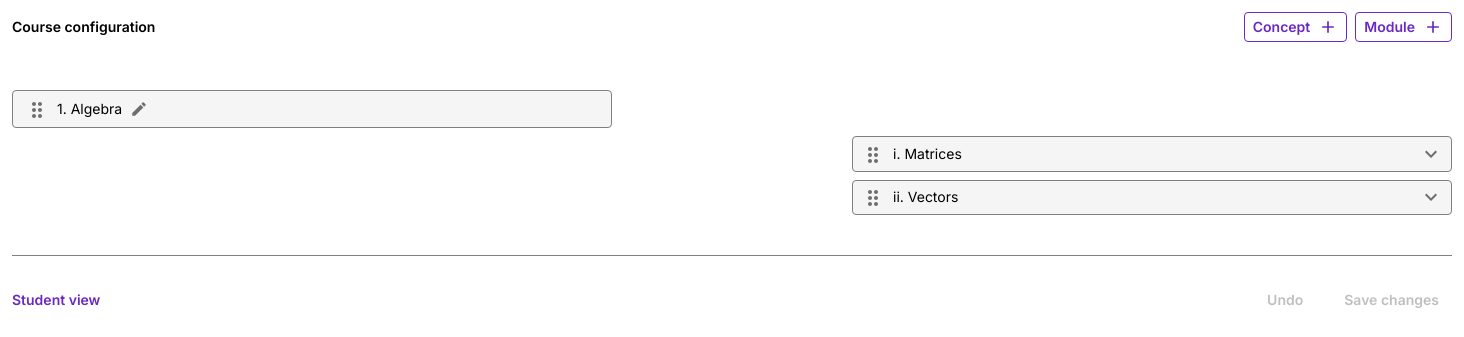
Test: ConfigurationTab › reverts a staged concept rename on Undo (name + button state)
Click the button named "Rename concept".
click(139, 109)  # box [130,100,148,118]
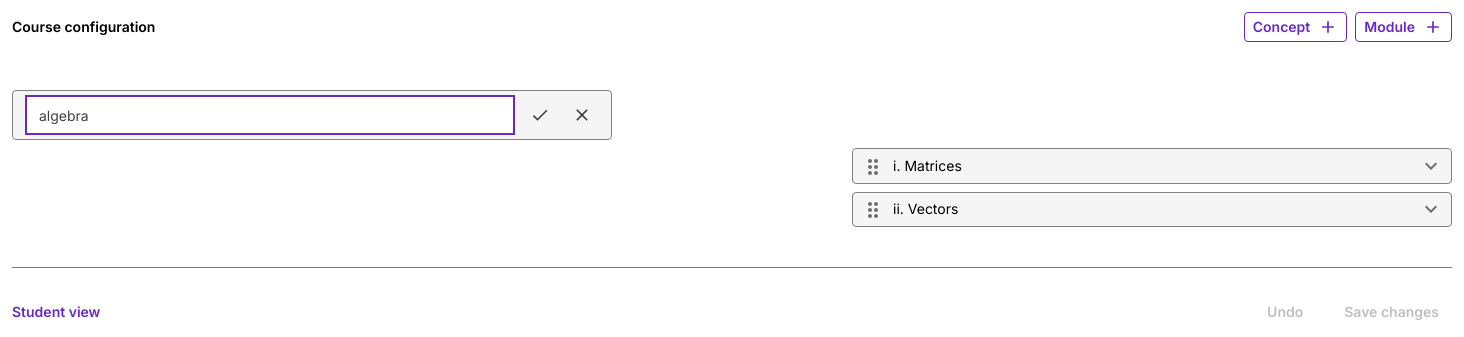
Replace the text in the field named "Concept name" with "Geometry" at (270,115), box [25,95,515,135]
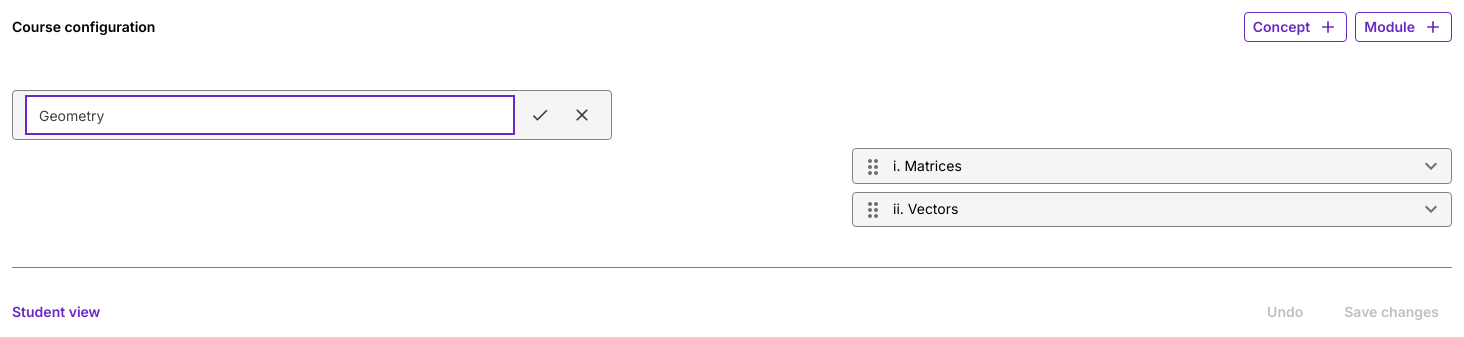
Click the button named "Save concept name".
click(540, 115)  # box [523,95,557,135]
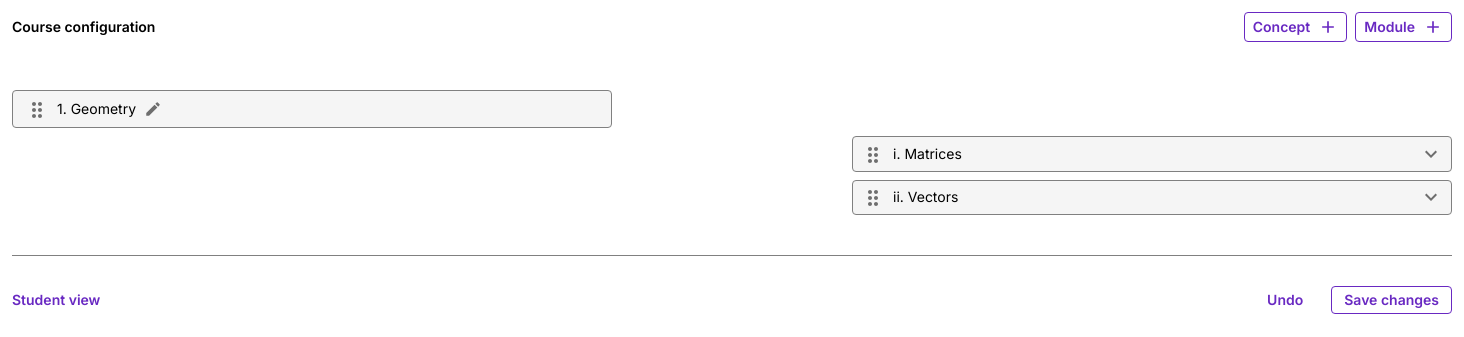
Result: the heading "1. Geometry" is shown at [57,95,136,123]
Click the button "Undo".
click(1285, 300)  # box [1255,286,1315,314]
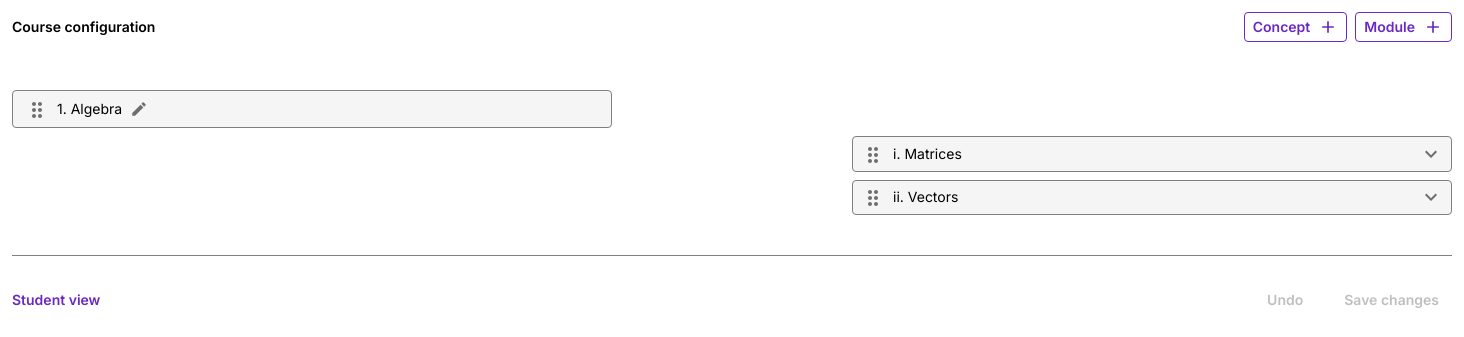
Result: the heading "1. Algebra" is shown at [57,95,122,123]
Result: the button "Undo" is disabled at [1255,286,1315,314]
Result: the button "Save changes" is disabled at [1331,286,1452,314]
